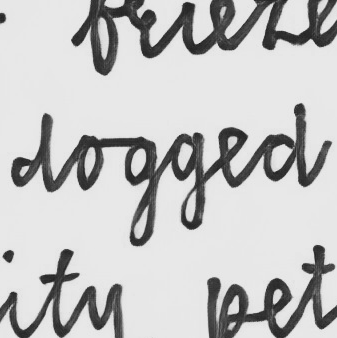d: (258, 100, 310, 184), (9, 111, 58, 193)
e: (212, 125, 253, 190)
g: (121, 135, 161, 248), (167, 128, 210, 231)
o: (73, 132, 107, 193)
